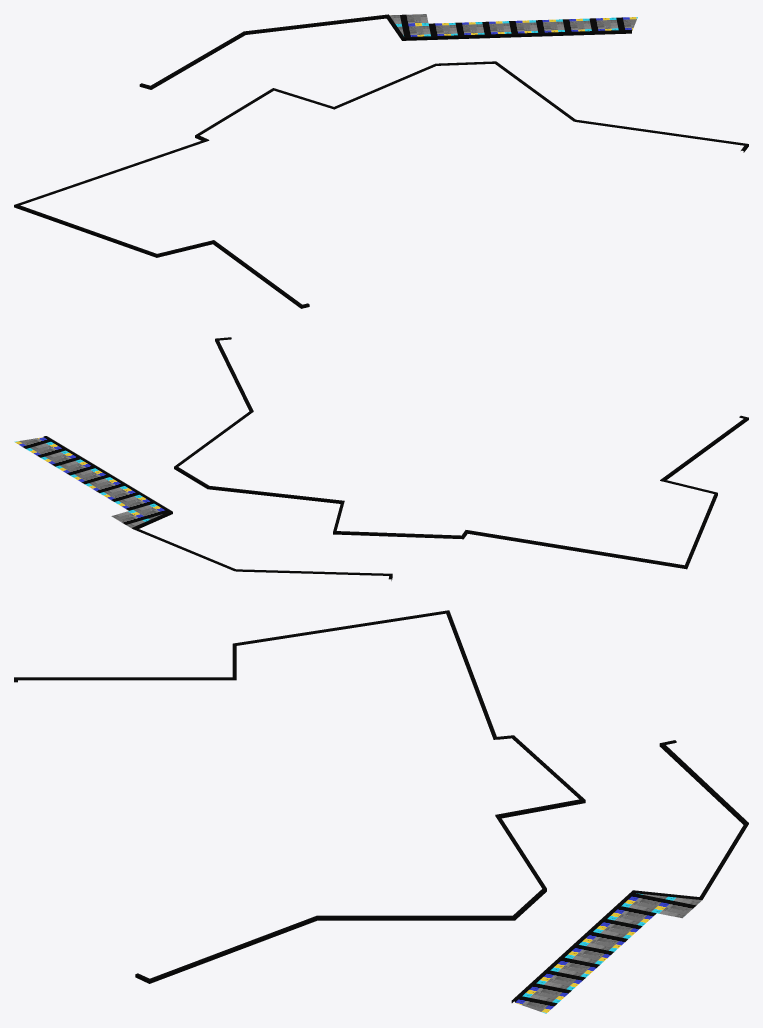
The model's file is chinatown_pavement_6.fbx.
3 views of the same model, one above another, from view 1: azimuth 30°, elevation 25°; view 2: azimuth 150°, elevation 25°; view 3: azimuth 270°, elevation 25° (orthographic). The views are drawn at different scales.
Visible parts, largest first — view 1: chinatown_pavement_6, Plane391, Line006; view 2: chinatown_pavement_6, Plane391, Line006; view 3: chinatown_pavement_6, Plane391, Line006.
Boxes of the visible parts, x1,y1,x2,y2 form: chinatown_pavement_6: (14,61,748,308); Plane391: (389,14,637,36); Line006: (139,14,632,89); chinatown_pavement_6: (174,337,748,569); Plane391: (14,437,167,528); Line006: (43,436,392,580); chinatown_pavement_6: (14,610,585,983); Plane391: (515,893,701,1013); Line006: (511,740,748,1002).
Bounding box in the file's own units: 4270 × 30.5 × 3311.
